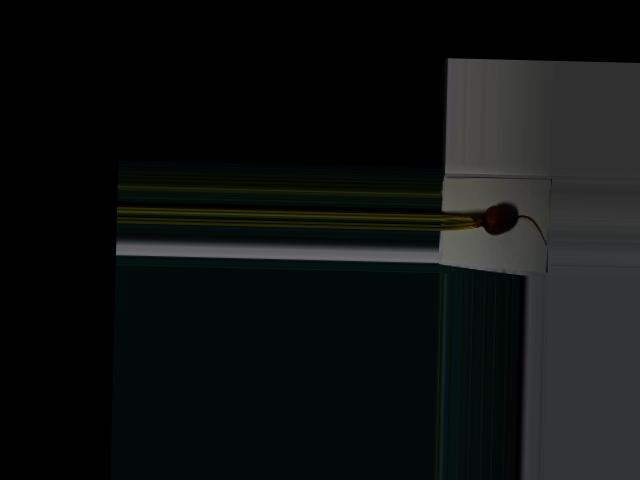beet: (439, 204, 547, 244)
